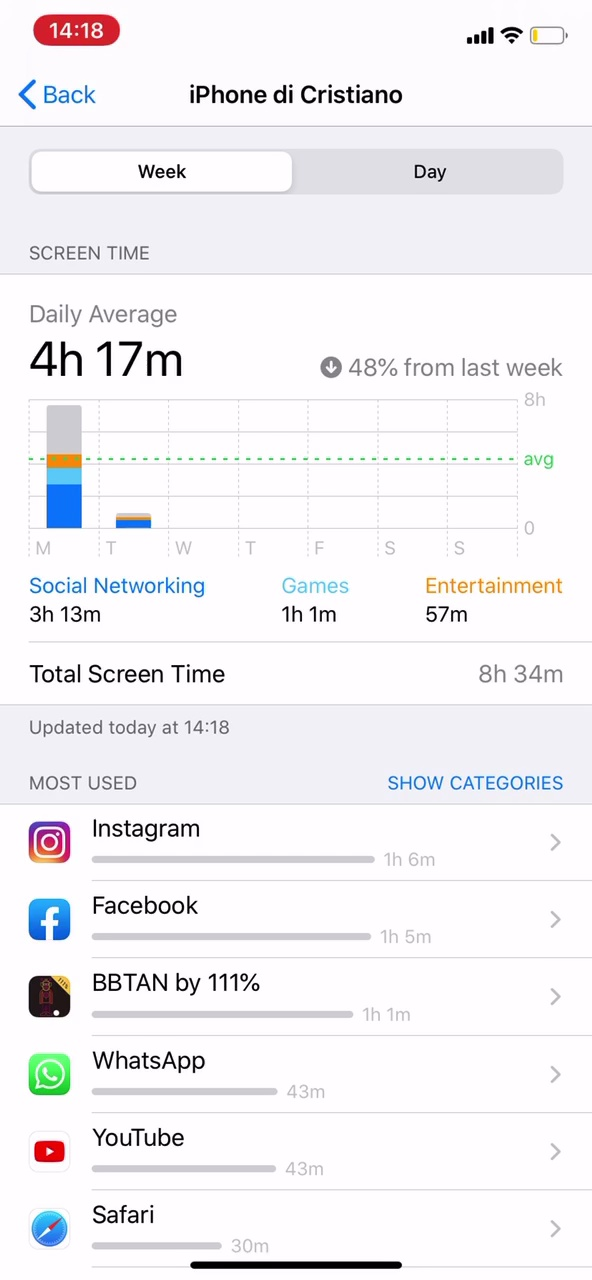use_over: (22, 572, 578, 691)
